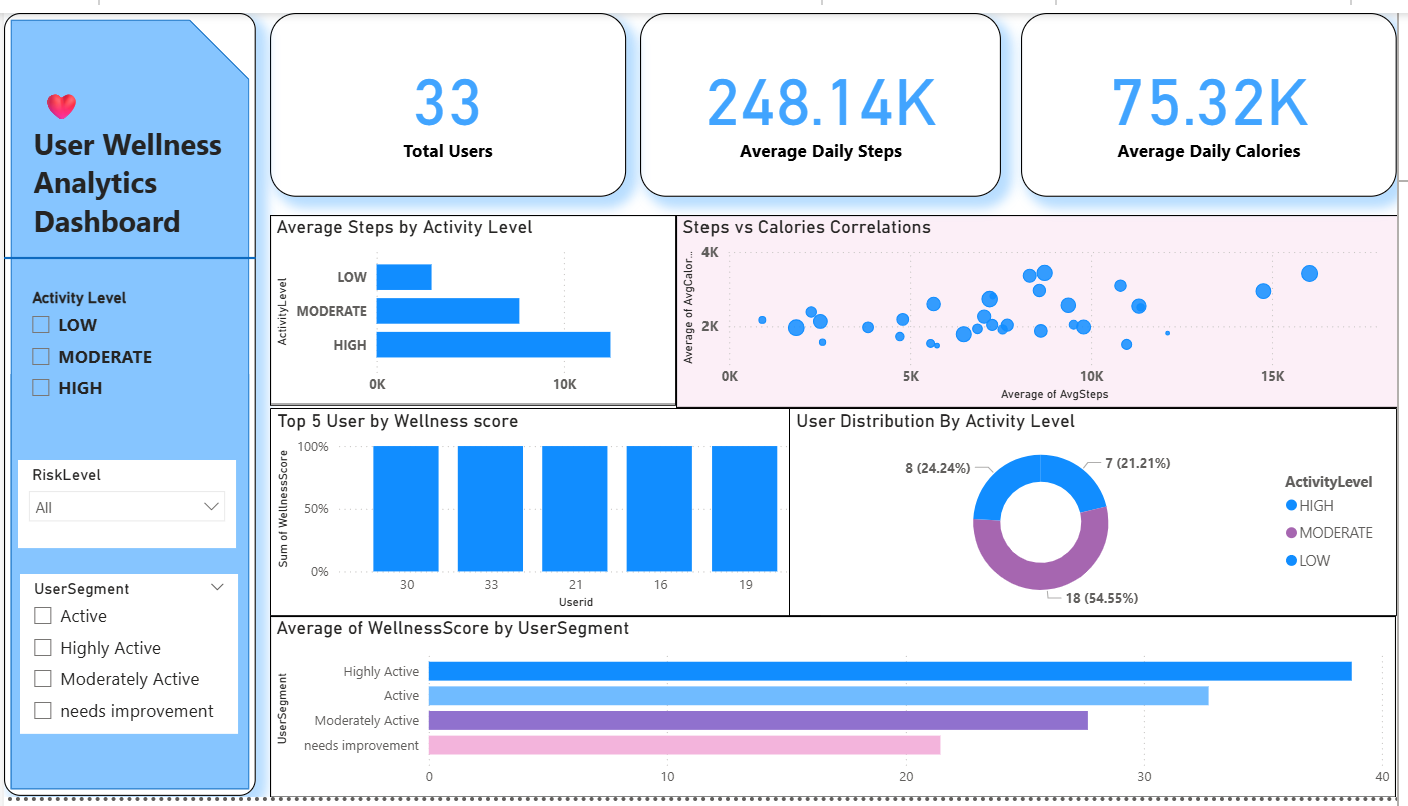

What the dashboard file says about the page in this screenshot:
{"tool":"powerbi","page":{"name":"Page 1","canvas":[1280,720],"ordinal":0},"visuals":[{"type":"card","fields":{"Values":["CountNonNull(Sheet1 (2).WellnessScore)"]},"box":[244.6,0,327.4,169.2],"z":0},{"type":"card","fields":{"Values":["Sum(Sheet1 (2).AvgSteps)"]},"box":[584.8,0,331,169.2],"z":1000},{"type":"shape","box":[0,0,231.7,719.1],"z":2000},{"type":"card","fields":{"Values":["Sum(Sheet1 (2).AvgCalories)"]},"box":[934.3,0,345.7,169.2],"z":3000},{"type":"textbox","box":[22.1,60.7,191.3,158.2],"z":4000},{"type":"shape","box":[0,0,231.7,450.6],"z":5000},{"type":"slicer","fields":{"Values":["Sheet1 (2).ActivityLevel"]},"box":[12.9,248.3,202.3,128.7],"z":6000},{"type":"slicer","fields":{"Values":["Sheet1 (2).RiskLevel"]},"box":[12.9,410.1,200.5,80.9],"z":7000},{"type":"slicer","fields":{"Values":["Sheet1 (2).UserSegment"]},"box":[14.7,514.9,200.5,147.1],"z":8000},{"type":"clusteredBarChart","title":"Average Steps by Activity Level","fields":{"Category":["Sheet1 (2).ActivityLevel"],"Y":["Avg(Sheet1 (2).AvgSteps)"]},"box":[244.6,185.7,373.3,174.7],"z":9000},{"type":"scatterChart","title":"Steps vs Calories Correlations","fields":{"X":["Avg(Sheet1 (2).AvgSteps)"],"Y":["Avg(Sheet1 (2).AvgCalories)"],"Size":["Sum(Sheet1 (2).Userid)"],"Category":["Sheet1 (2).Userid"]},"box":[617.9,185.7,663.9,176.6],"z":10000},{"type":"clusteredBarChart","fields":{"Category":["Sheet1 (2).UserSegment"],"Y":["Avg(Sheet1 (2).WellnessScore)"]},"box":[245,552.8,1034.5,167.2],"z":11000},{"type":"hundredPercentStackedColumnChart","title":"Top 5 User by Wellness score","fields":{"Category":["Sheet1 (2).Userid"],"Y":["Sum(Sheet1 (2).WellnessScore)"]},"box":[244.6,362.3,505.7,191.3],"z":12000},{"type":"donutChart","title":"User Distribution By Activity Level","fields":{"Y":["CountNonNull(Sheet1 (2).ActivityLevel)"],"Category":["Sheet1 (2).ActivityLevel"]},"box":[720.9,362.3,559.1,191.3],"z":13000}]}

Visuals, with their boxes in screenshot pixels (x1, y1, x2, y2), scaled from the page's 1280x720 canvas onto the 1408x806 screenshot:
card - CountNonNull(Sheet1 (2).WellnessScore): [269,0,629,189]
card - Sum(Sheet1 (2).AvgSteps): [643,0,1007,189]
shape: [0,0,255,805]
card - Sum(Sheet1 (2).AvgCalories): [1028,0,1407,189]
textbox: [24,68,235,245]
shape: [0,0,255,504]
slicer - Sheet1 (2).ActivityLevel: [14,278,237,422]
slicer - Sheet1 (2).RiskLevel: [14,459,235,550]
slicer - Sheet1 (2).UserSegment: [16,576,237,741]
"Average Steps by Activity Level" clusteredBarChart: [269,208,680,403]
"Steps vs Calories Correlations" scatterChart: [680,208,1407,406]
clusteredBarChart - Sheet1 (2).UserSegment x Avg(Sheet1 (2).WellnessScore): [270,619,1407,805]
"Top 5 User by Wellness score" hundredPercentStackedColumnChart: [269,406,825,620]
"User Distribution By Activity Level" donutChart: [793,406,1407,620]
